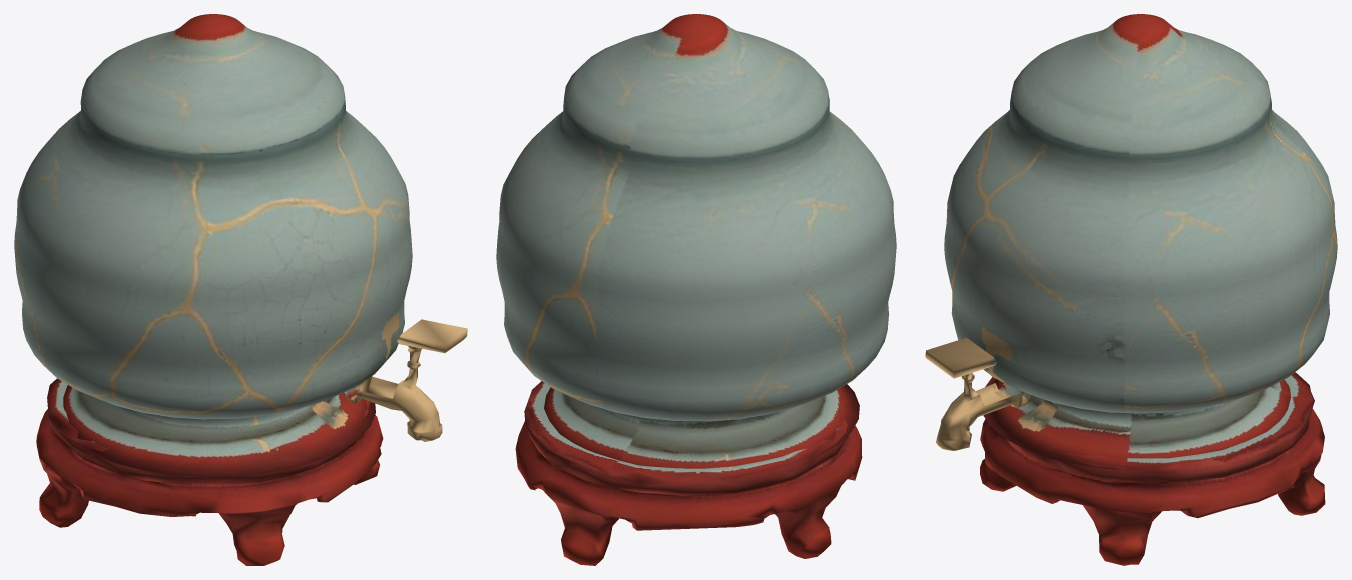
Rendered from bigkeg@celadon.glb.
3 renders of one model, left to right at view 1: azimuth 30°, elevation 25°; view 2: azimuth 150°, elevation 25°; view 3: azimuth 270°, elevation 25°, orthographic.
Parts seen in each view (by area): view 1: bigkeg@celadon; view 2: bigkeg@celadon; view 3: bigkeg@celadon.
Part boxes in pixels (x1,y1,x2,y2): bigkeg@celadon: (14, 14, 467, 565); bigkeg@celadon: (496, 14, 896, 565); bigkeg@celadon: (925, 14, 1337, 565).
Size of the model in its own units: 1.69 by 2.3 by 1.77.
1 material, 1 textured.
